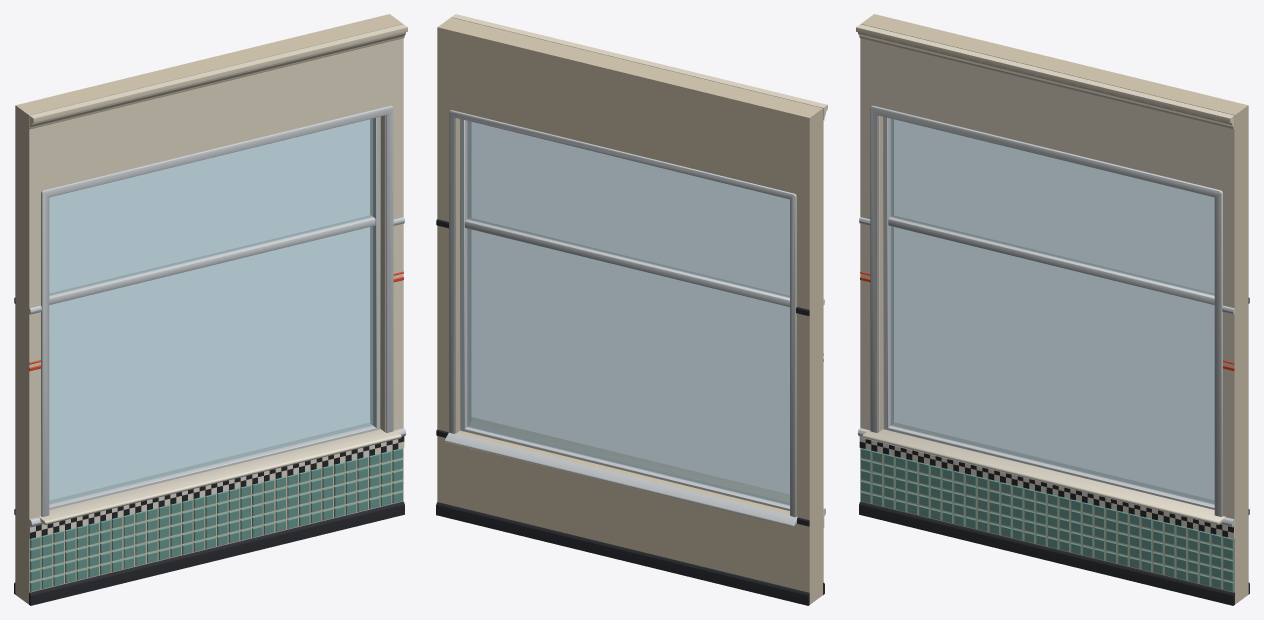
The model's file is Shop_WallWindowWide.fbx.
The picture shows the model from 3 angles, left to right: view 1: azimuth 30°, elevation 25°; view 2: azimuth 150°, elevation 25°; view 3: azimuth 330°, elevation 25°; orthographic projection.
Visible parts, largest first — view 1: Glass, Upper, Frame, Tiles, Core, Grout, Baseboard, Sill, CheckerDark, CheckerLight; view 2: Glass, Core, Frame, BackBase, Sill, Upper; view 3: Glass, Upper, Frame, Tiles, Core, Grout, Baseboard, Sill, CheckerDark, CheckerLight.
Part boxes in pixels (x1,y1,x2,y2): Glass: [49, 118, 372, 504]; Upper: [29, 24, 407, 525]; Frame: [41, 105, 393, 516]; Tiles: [30, 448, 402, 591]; Core: [15, 14, 402, 604]; Grout: [29, 448, 403, 592]; Baseboard: [29, 501, 404, 605]; Sill: [38, 429, 401, 524]; CheckerDark: [30, 436, 404, 538]; CheckerLight: [29, 439, 404, 538]; Glass: [467, 121, 789, 505]; Core: [437, 17, 822, 604]; Frame: [444, 110, 797, 526]; BackBase: [436, 502, 809, 605]; Sill: [470, 417, 789, 502]; Upper: [451, 14, 827, 516]; Glass: [891, 118, 1214, 504]; Upper: [856, 24, 1234, 525]; Frame: [870, 105, 1222, 516]; Tiles: [861, 448, 1233, 591]; Core: [861, 14, 1248, 604]; Grout: [860, 448, 1234, 592]; Baseboard: [859, 501, 1234, 605]; Sill: [862, 429, 1225, 524]; CheckerDark: [859, 439, 1233, 537]; CheckerLight: [859, 436, 1234, 538].
Size of the model in its own units: 1600 by 2000 by 192.
